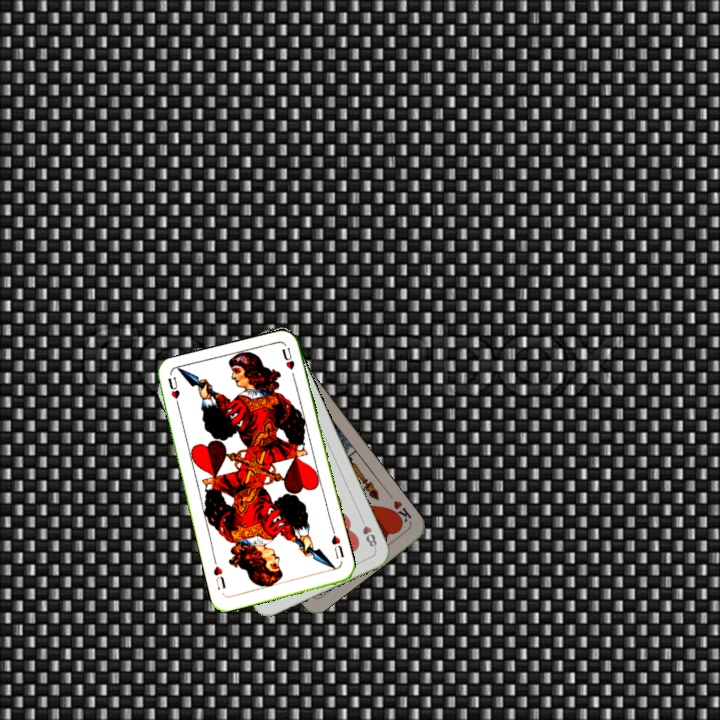H8: (356, 513, 379, 552)
HK: (386, 496, 414, 527)
HU: (164, 373, 183, 413), (327, 531, 347, 562)
